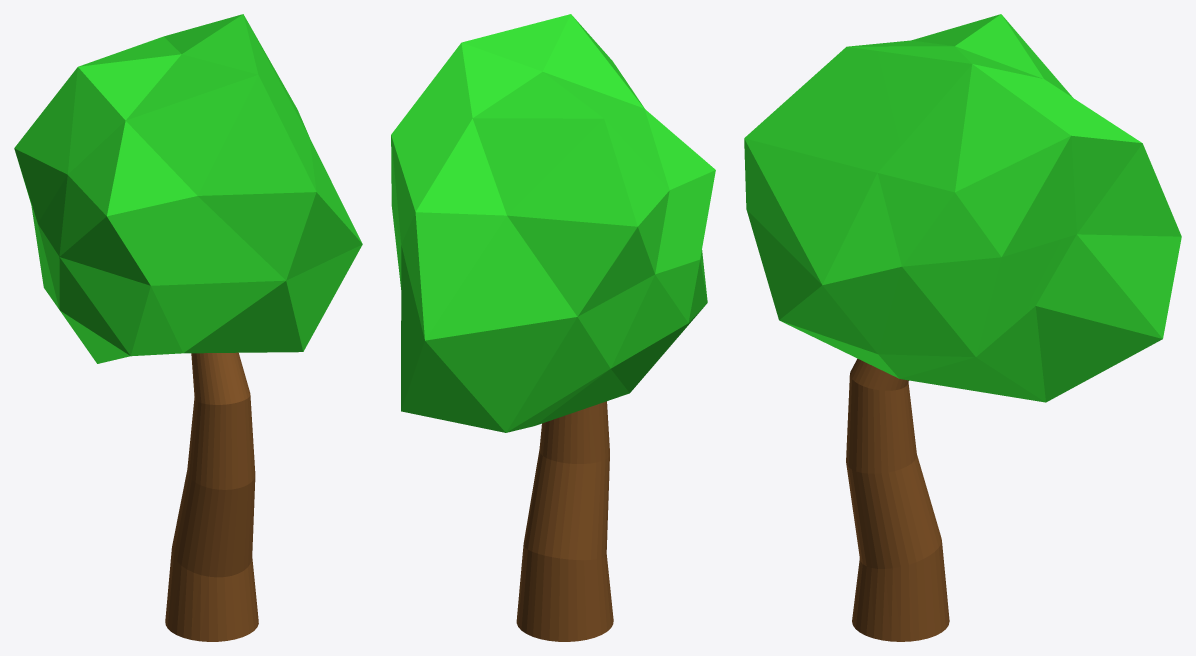
The model's file is tree04.fbx.
3 views of the same model, side by side, from view 1: azimuth 30°, elevation 25°; view 2: azimuth 150°, elevation 25°; view 3: azimuth 270°, elevation 25° (orthographic). The views are drawn at different scales.
Parts seen in each view (by area): view 1: Tree04; view 2: Tree04; view 3: Tree04.
Part boxes in pixels (x1,y1,x2,y2): Tree04: (14, 14, 362, 641); Tree04: (391, 14, 715, 641); Tree04: (744, 14, 1181, 641).
Bounding box in the file's own units: 793 × 1633 × 1097.
